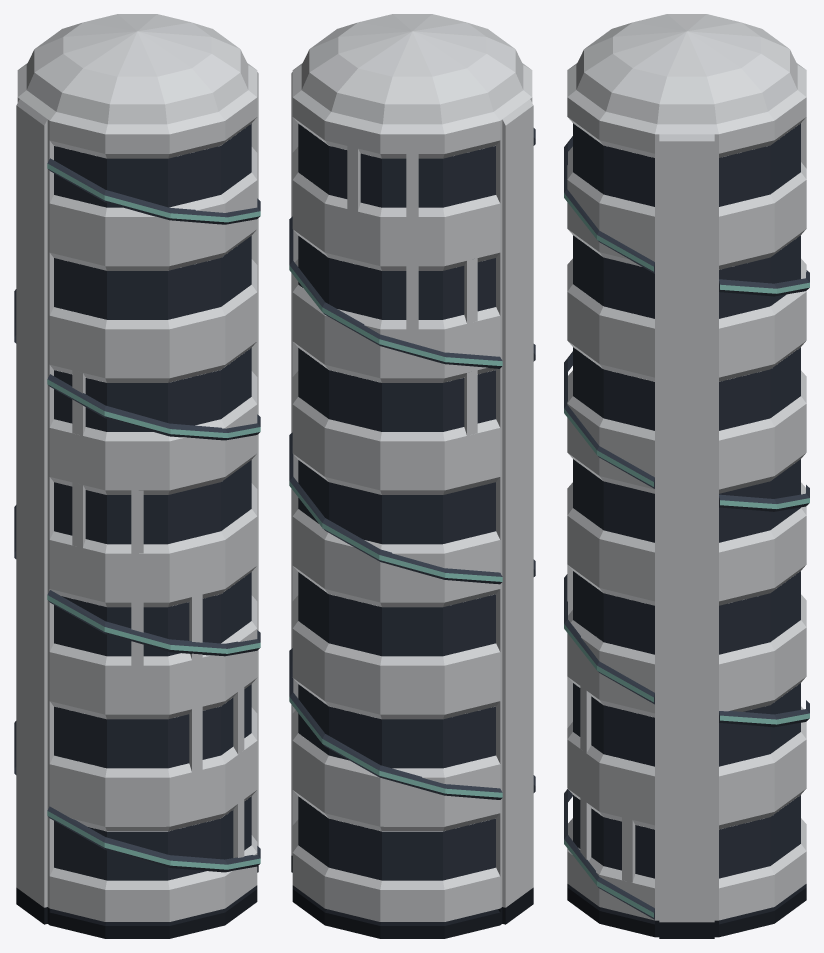
Rendered from capsule-residential-tower-80300b.glb.
3 renders of one model, left to right at view 1: azimuth 30°, elevation 25°; view 2: azimuth 150°, elevation 25°; view 3: azimuth 270°, elevation 25°, orthographic.
Visible parts, largest first — view 1: tower-shell, glazing; view 2: tower-shell, glazing; view 3: tower-shell, glazing.
Part boxes in pixels (x1=…): tower-shell: x1=14, y1=14, x2=260, y2=938; glazing: x1=54, y1=123, x2=251, y2=880; tower-shell: x1=289, y1=14, x2=535, y2=938; glazing: x1=298, y1=123, x2=495, y2=880; tower-shell: x1=564, y1=14, x2=809, y2=938; glazing: x1=573, y1=123, x2=800, y2=878.
Bounding box in the file's own units: 8 × 30.57 × 7.96.
